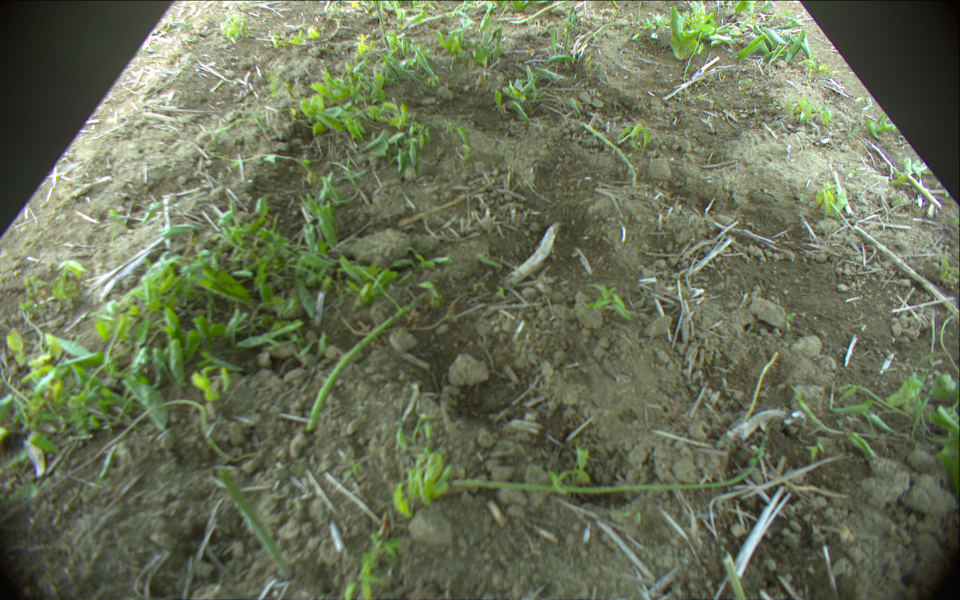aspa: (441, 437, 765, 490), (305, 298, 417, 434), (217, 471, 295, 578), (577, 119, 634, 182), (505, 1, 567, 24), (373, 1, 394, 53), (726, 553, 749, 600)
